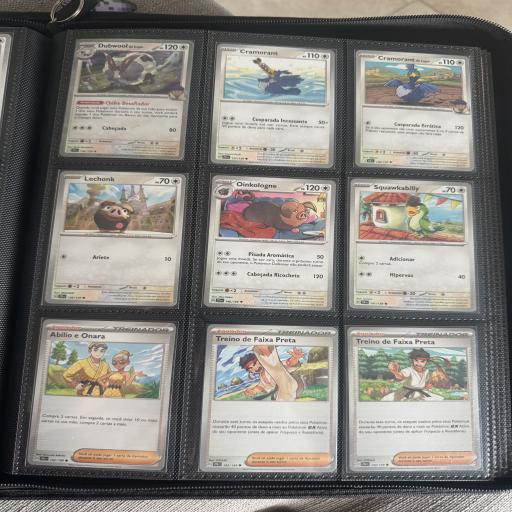card: (27, 316, 176, 471), (199, 323, 339, 473), (347, 324, 480, 472), (44, 170, 186, 307), (203, 175, 336, 310), (348, 178, 478, 312), (58, 35, 194, 161), (210, 43, 339, 168), (350, 49, 479, 172)
